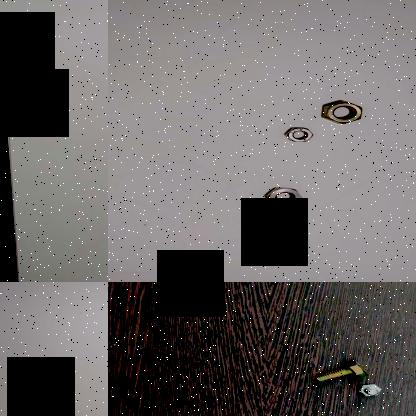Bolts: (313, 356, 369, 384), (355, 381, 386, 399)
NUTS: (315, 96, 369, 124), (260, 184, 302, 208), (282, 122, 312, 146)
